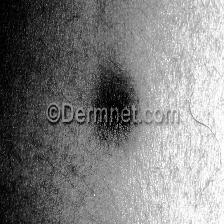Benign Marking or Mole: (103, 79, 142, 149)
